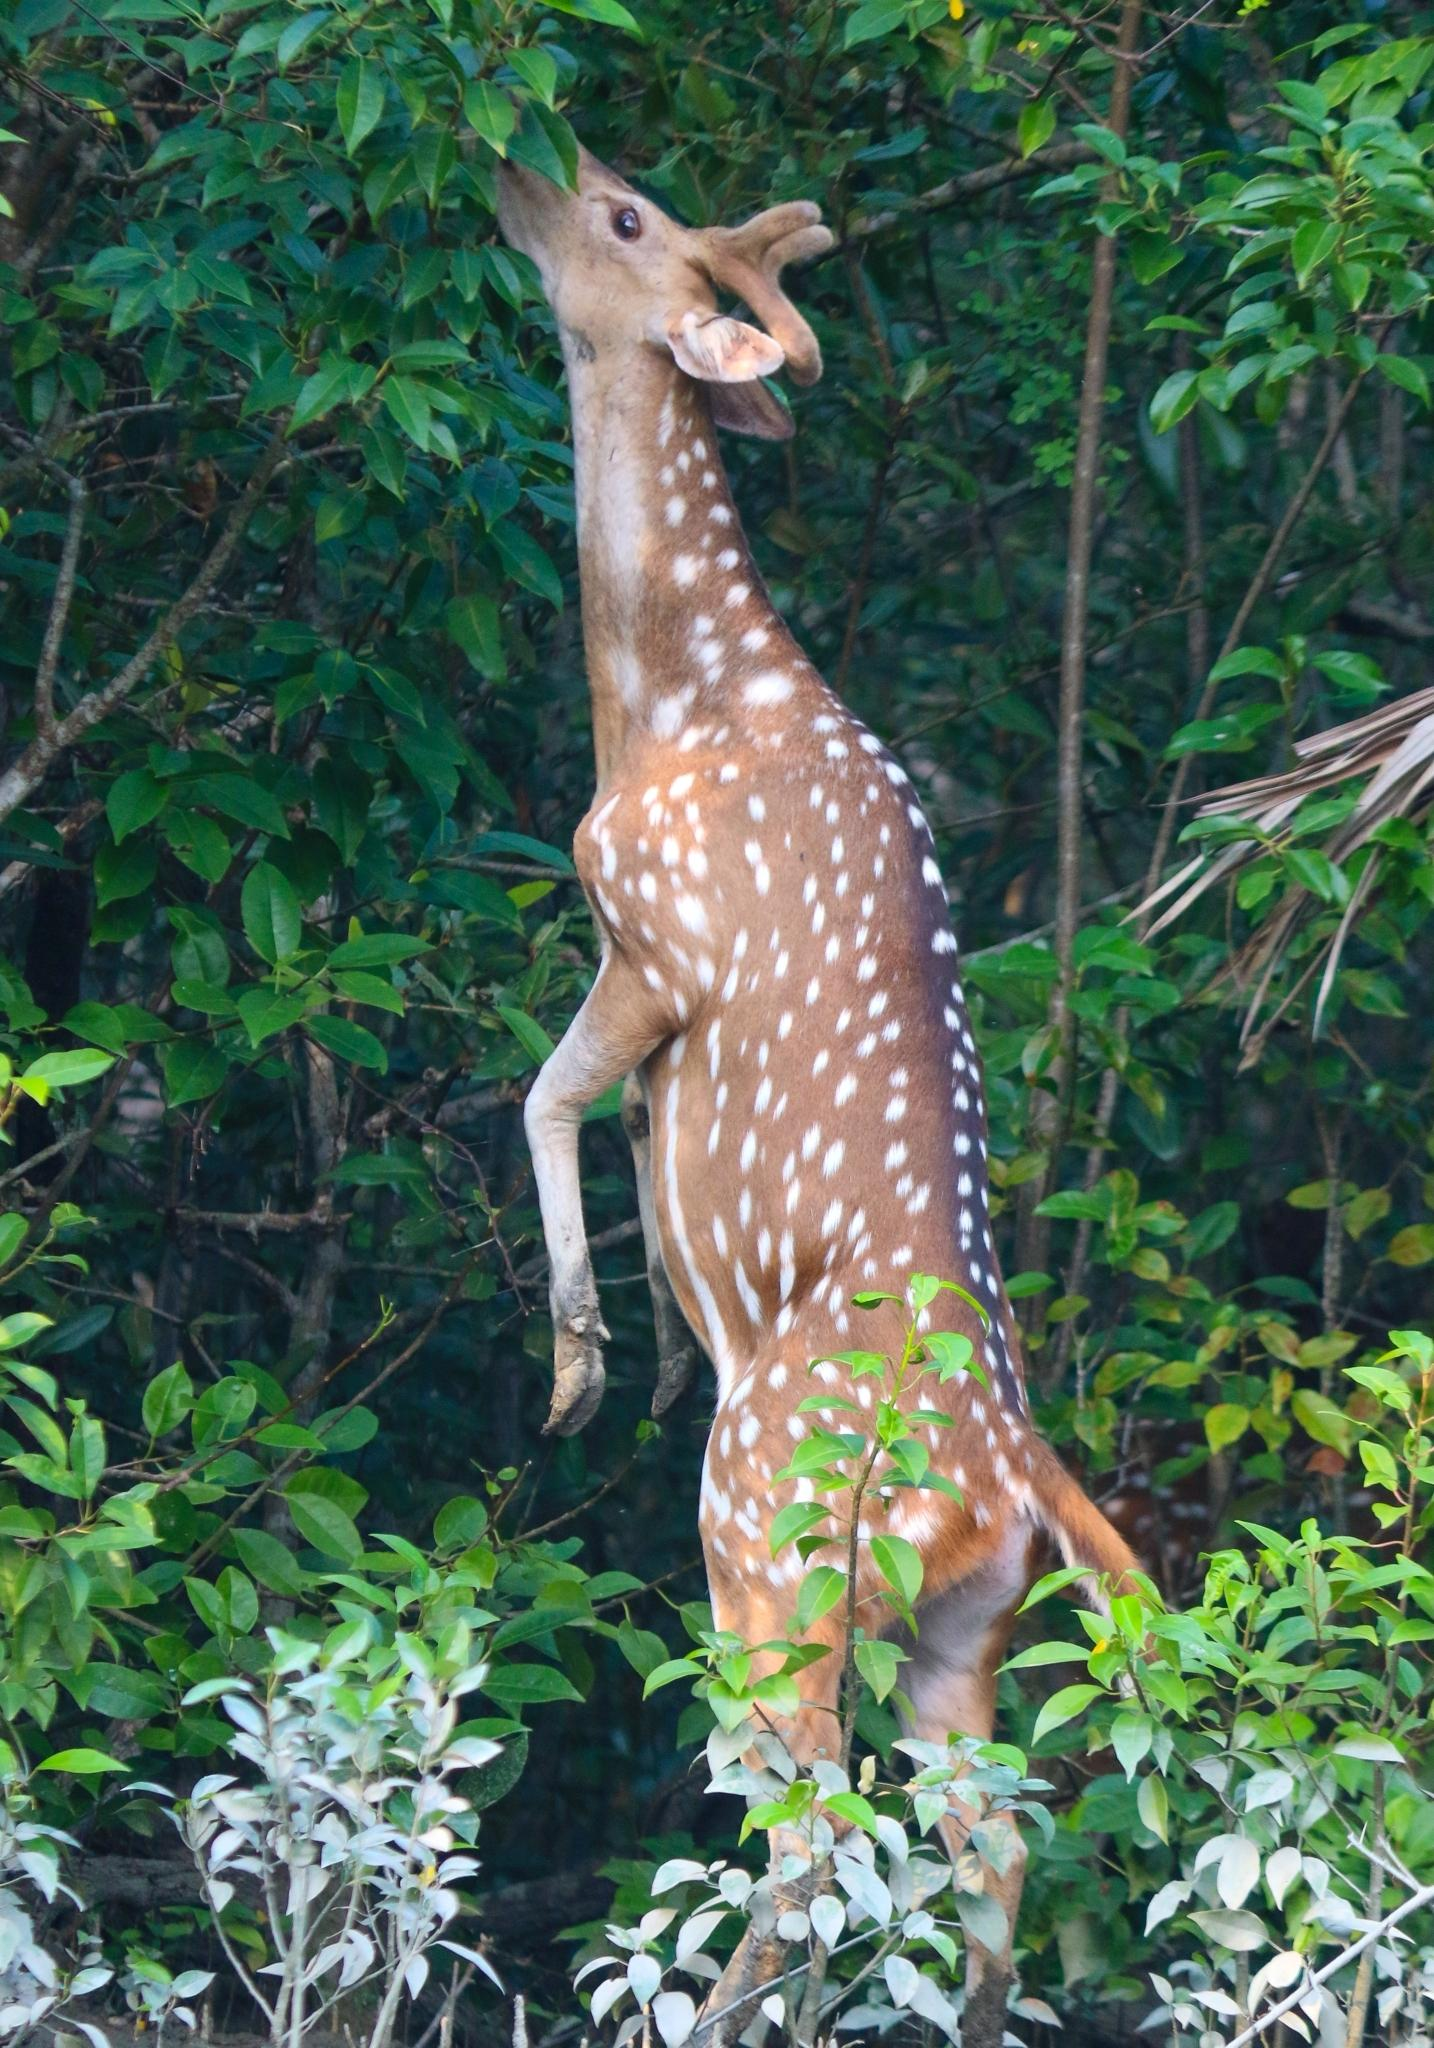Deer: (497, 149, 1140, 1743)
